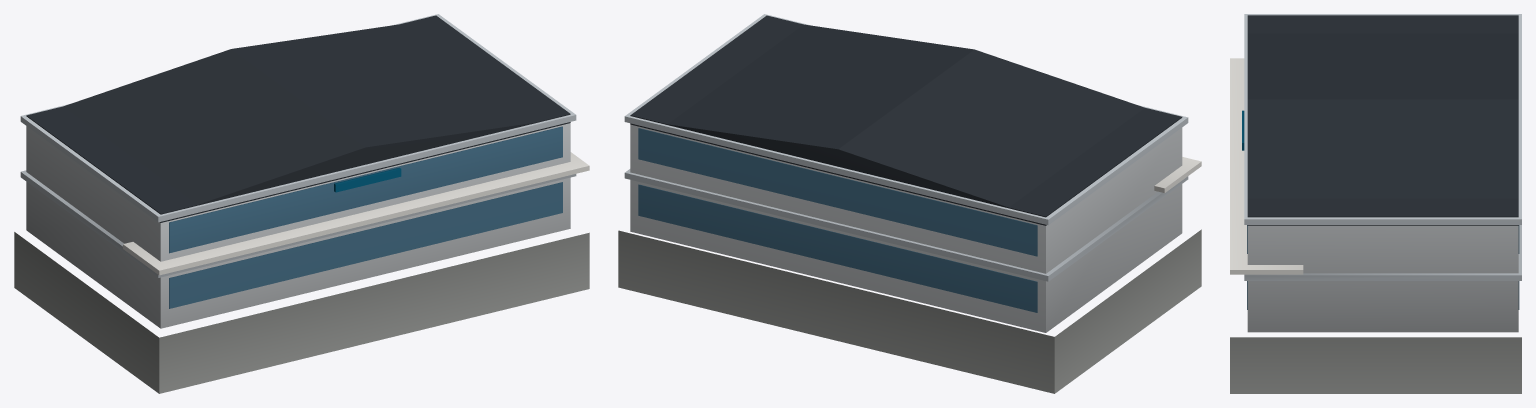
The model's file is karting-clubhouse.glb.
The picture shows the model from 3 angles, left to right: view 1: azimuth 30°, elevation 25°; view 2: azimuth 150°, elevation 25°; view 3: azimuth 270°, elevation 25°; orthographic projection.
Parts seen in each view (by area): view 1: karting-clubhouse; view 2: karting-clubhouse; view 3: karting-clubhouse.
Boxes of the visible parts, <box> form: karting-clubhouse: <box>14,14,589,393</box>; karting-clubhouse: <box>618,14,1201,393</box>; karting-clubhouse: <box>1230,14,1521,393</box>.
Bounding box in the file's own units: 24 × 10 × 14.
